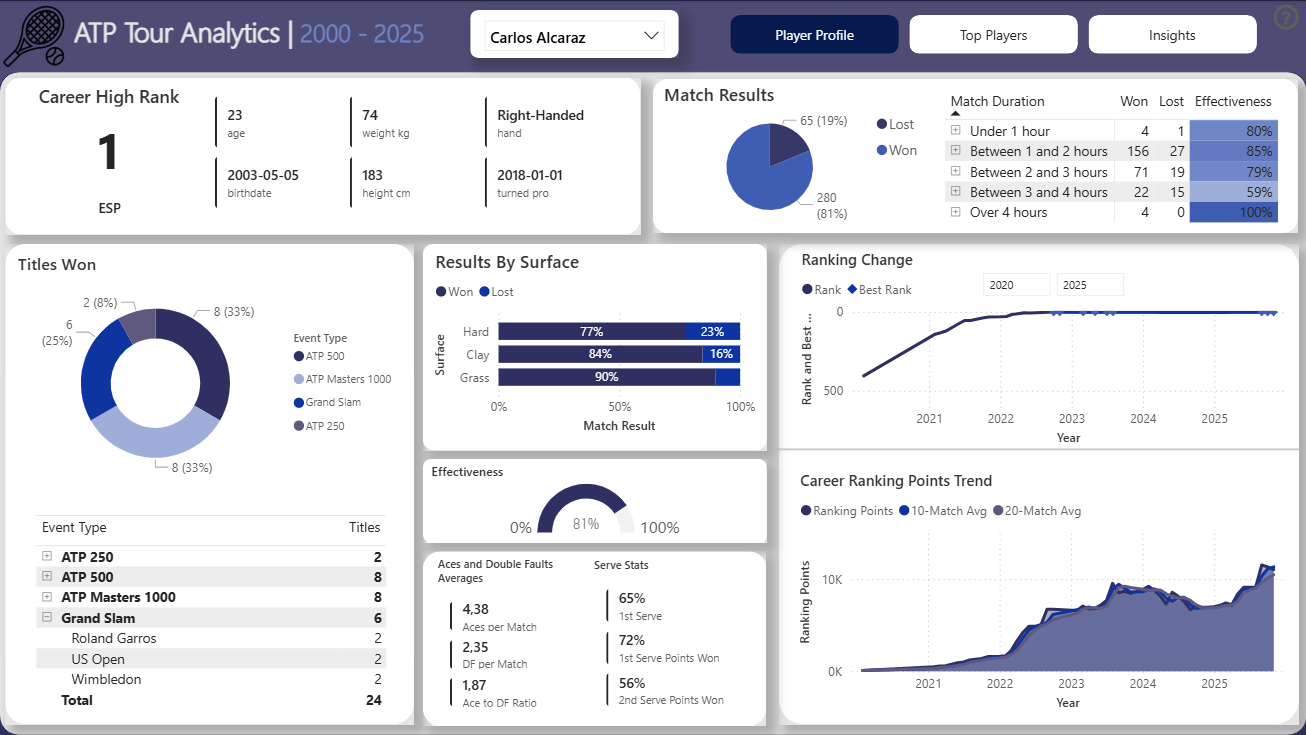

The dashboard page shown, as its layout file describes it:
{"tool":"powerbi","page":{"name":"Player Profile","canvas":[1280,720],"ordinal":0},"visuals":[{"type":"shape","box":[0,0,1280,102.5],"z":0},{"type":"shape","box":[415,238.8,336.5,202],"z":0,"group":"g3"},{"type":"shape","box":[461.2,10,204,46.9],"z":1000,"group":"g4"},{"type":"shape","box":[0,70,1280,650],"z":1000},{"type":"shape","box":[6.2,76.2,621.2,153.8],"z":2000},{"type":"slicer","fields":{"Values":["gold dim_players.full_name"]},"box":[464.9,10,196.7,40.6],"z":3000,"group":"g4"},{"type":"card","title":"Career High Rank","fields":{"Values":["Min(gold fact_match_player_stats.atp_ranking)"]},"box":[23.7,82.1,168.3,105.7],"z":3000},{"type":"cardVisual","fields":{"Data":["Sum(gold dim_players.age)","Min(gold dim_players.birthdate)","Sum(gold dim_players.weight_kg)","Sum(gold dim_players.height_cm)","Min(gold dim_players.hand)","Min(gold dim_players.turned_pro_date)"]},"box":[195,76.9,423.1,145.6],"z":4000},{"type":"shape","box":[6.2,238.8,400,470],"z":5000},{"type":"shape","box":[762.5,238.8,508.8,470],"z":7000},{"type":"lineChart","title":"Ranking Change","fields":{"Category":["gold dim_tournaments.Start_Date.Odmiana.Hierarchia dat.Rok","gold dim_tournaments.Start_Date.Odmiana.Hierarchia dat.Miesiąc"],"Y":["Min(gold fact_match_player_stats.atp_ranking)","_Measures.Min_Ranking"]},"box":[780,243.8,485,197.5],"z":8000},{"type":"areaChart","title":"Career Ranking Points Trend","fields":{"Category":["player_ranking_trend.tourney_date.Odmiana.Hierarchia dat.Rok","player_ranking_trend.tourney_date.Odmiana.Hierarchia dat.Miesiąc"],"Y":["Avg(player_ranking_trend.rank_points)","Avg(player_ranking_trend.moving_avg_10)","Avg(player_ranking_trend.moving_avg_20)"]},"box":[778.8,460,486.2,240],"z":9000},{"type":"slicer","fields":{"Values":["dim_date.Year"]},"box":[950,256.4,173.6,42.9],"z":10000},{"type":"group","id":"g1","title":"Grupa 1","box":[640,77.5,631.2,151.2],"z":11000},{"type":"group","id":"g2","title":"Grupa 2","box":[13.9,247,390,453],"z":12000},{"type":"donutChart","title":"Titles Won","fields":{"Category":["gold dim_tournaments.Tournament_Level"],"Y":["CountNonNull(gold fact_match.winner_id)"]},"box":[13.9,247,384.5,234.5],"z":12000,"group":"g2"},{"type":"group","id":"g3","title":"Grupa 3","box":[415,238.8,336.2,202.5],"z":13000},{"type":"pivotTable","fields":{"Rows":["gold dim_tournaments.Tournament_Level","gold dim_tournaments.Tournament_Name"],"Values":["CountNonNull(gold fact_match.winner_id)"]},"box":[32.8,499.2,371.1,200.7],"z":13000,"group":"g2"},{"type":"cardVisual","fields":{"Data":["Min(gold dim_players.country_code)"]},"box":[73.7,176.7,71,50.1],"z":14000},{"type":"hundredPercentStackedBarChart","title":"Results By Surface","fields":{"Category":["gold fact_match_player_stats.surface"],"Y":["_Measures.Won","_Measures.Lost"]},"box":[421.9,243.7,323.3,186.2],"z":15000,"group":"g3"},{"type":"shape","box":[640,77.5,631.2,151.2],"z":16000,"group":"g1"},{"type":"pageNavigator","box":[715.7,14.3,515.7,38.6],"z":17000},{"type":"actionButton","box":[1242.1,0,37.9,33.6],"z":18000},{"type":"pivotTable","fields":{"Values":["_Measures.Won","_Measures.Lost","_Measures.Effectiveness"],"Rows":["gold fact_match.duration_bucket","gold fact_match_player_stats.surface"]},"box":[921.3,83.2,345.3,141.1],"z":18000,"group":"g1"},{"type":"pieChart","title":"Match Results","fields":{"Y":["_Measures.Lost","_Measures.Won"]},"box":[645.7,81.7,267,142.9],"z":19000,"group":"g1"},{"type":"shape","box":[759.4,354.6,517.3,170],"z":19000},{"type":"shape","box":[415,448.8,336.5,82.5],"z":19000,"group":"g5"},{"type":"shape","box":[415,538.8,336.2,171],"z":19000,"group":"g6"},{"type":"group","id":"g4","title":"Grupa 4","box":[461.2,10,203.8,47.5],"z":20000},{"type":"gauge","title":"Effectiveness","fields":{"Y":["_Measures.Effectiveness"]},"box":[419,452.6,330,78.8],"z":20000,"group":"g5"},{"type":"cardVisual","title":"Aces and Double Faults Averages","fields":{"Data":["_Measures.Avg Aces per Match","_Measures.Double_Faults_Per_Match","_Measures.Ace_to_DF_Ratio"]},"box":[424.8,543.6,160.2,165.2],"z":20000,"group":"g6"},{"type":"textbox","box":[68.8,7.5,460,62.5],"z":21000},{"type":"cardVisual","title":"Serve Stats","fields":{"Data":["_Measures.First_Serve_Pct","_Measures.First_Serve_Won_Pct","_Measures.Second_Serve_Won_Pct"]},"box":[577.5,545.4,161.2,165],"z":21000,"group":"g6"},{"type":"image","box":[0,0,68.8,70],"z":22000},{"type":"group","id":"g5","title":"Grupa 5","box":[415,448.8,336.2,82.5],"z":23000},{"type":"group","id":"g6","title":"Grupa 6","box":[415,538.8,336.2,171.6],"z":24000}]}

Visuals, with their boxes in screenshot pixels (x1, y1, x2, y2), scaled from the page's 1280x720 canvas onto the 1306x735 screenshot:
shape: [0,0,1305,105]
shape: [423,244,767,450]
shape: [471,10,679,58]
shape: [0,71,1305,734]
shape: [6,78,640,235]
slicer - gold dim_players.full_name: [474,10,675,52]
"Career High Rank" card: [24,84,196,192]
cardVisual - Sum(gold dim_players.age) x Min(gold dim_players.birthdate): [199,79,631,227]
shape: [6,244,414,724]
shape: [778,244,1297,724]
"Ranking Change" lineChart: [796,249,1291,450]
"Career Ranking Points Trend" areaChart: [795,470,1291,715]
slicer - dim_date.Year: [969,262,1146,306]
"Grupa 1" group: [653,79,1297,233]
"Grupa 2" group: [14,252,412,715]
"Titles Won" donutChart: [14,252,406,492]
"Grupa 3" group: [423,244,766,450]
pivotTable - gold dim_tournaments.Tournament_Level x gold dim_tournaments.Tournament_Name: [33,510,412,714]
cardVisual - Min(gold dim_players.country_code): [75,180,148,232]
"Results By Surface" hundredPercentStackedBarChart: [430,249,760,439]
shape: [653,79,1297,233]
pageNavigator: [730,15,1256,54]
actionButton: [1267,0,1305,34]
pivotTable - _Measures.Won x _Measures.Lost: [940,85,1292,229]
"Match Results" pieChart: [659,83,931,229]
shape: [775,362,1303,536]
shape: [423,458,767,542]
shape: [423,550,766,725]
"Grupa 4" group: [471,10,679,59]
"Effectiveness" gauge: [428,462,764,542]
"Aces and Double Faults Averages" cardVisual: [433,555,597,724]
textbox: [70,8,540,71]
"Serve Stats" cardVisual: [589,557,754,725]
image: [0,0,70,71]
"Grupa 5" group: [423,458,766,542]
"Grupa 6" group: [423,550,766,725]
